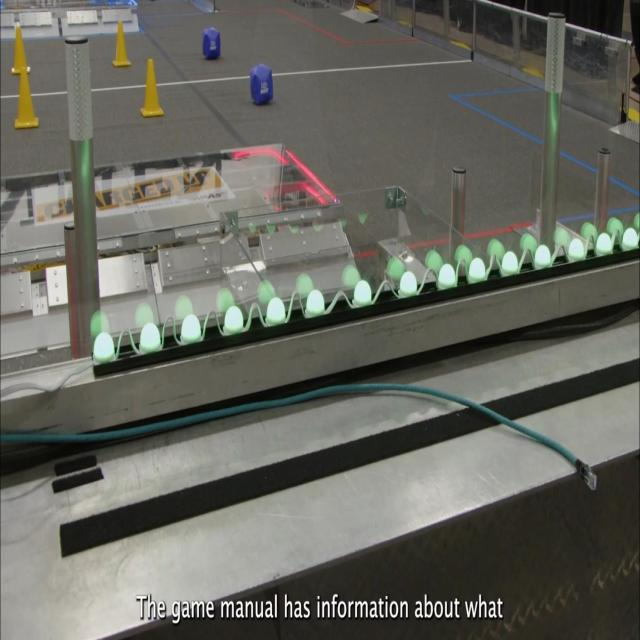frc_cone: (13, 74, 39, 128), (140, 60, 164, 118), (111, 18, 131, 68), (10, 25, 30, 75)
frc_cube: (248, 63, 274, 106), (202, 27, 223, 60)
